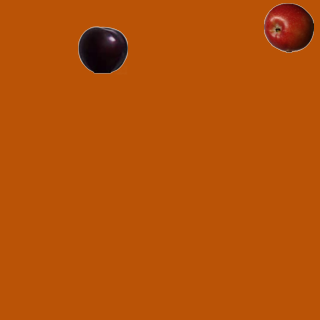Apple Braeburn: (263, 2, 313, 52)
Cherry Wax Black: (77, 24, 127, 74)
